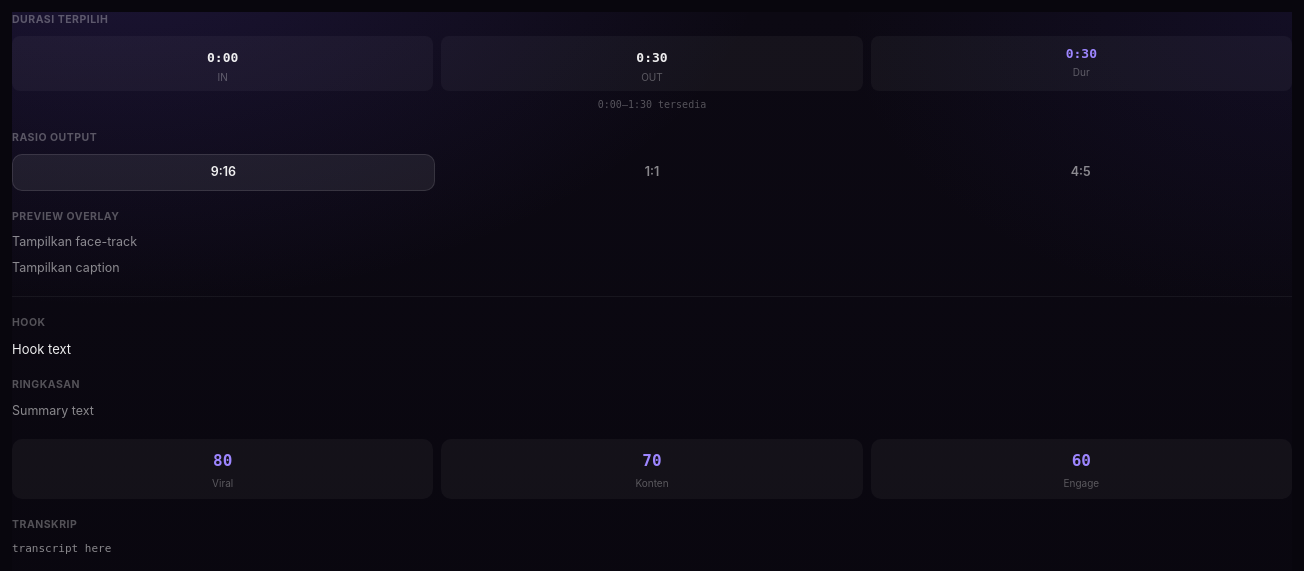
EditTab › reverts on invalid input without committing
The width and height of the screenshot is (1304, 571).
Replace the text in the field named "IN" with "abc" at coordinates (223, 58), box [20,47,425,68]
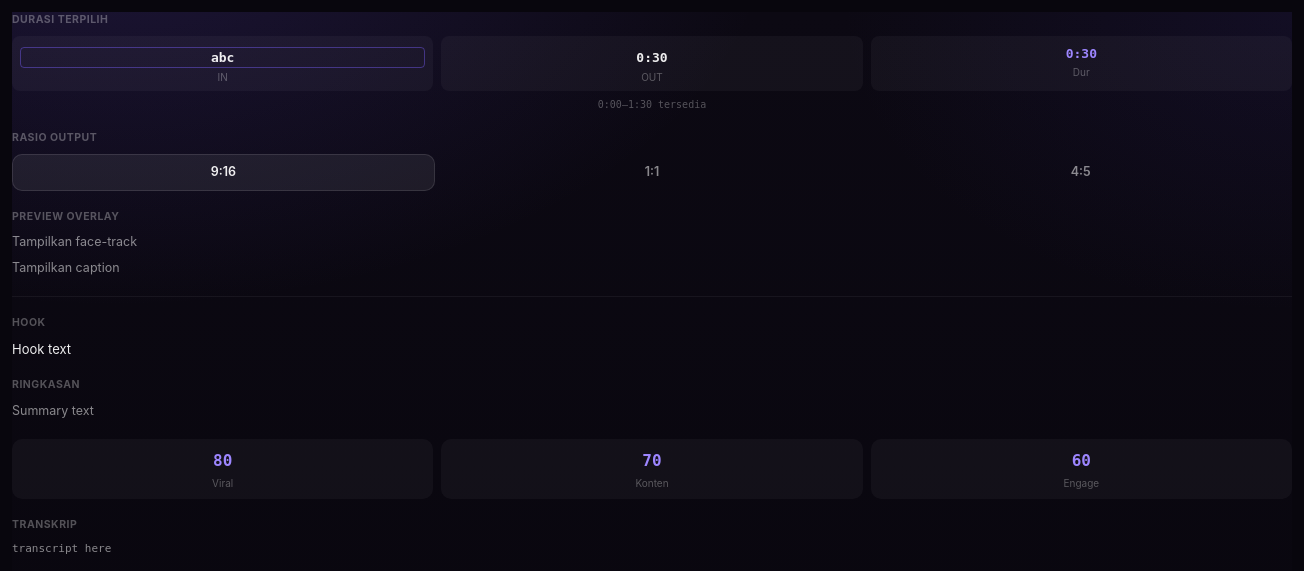
Press Tab
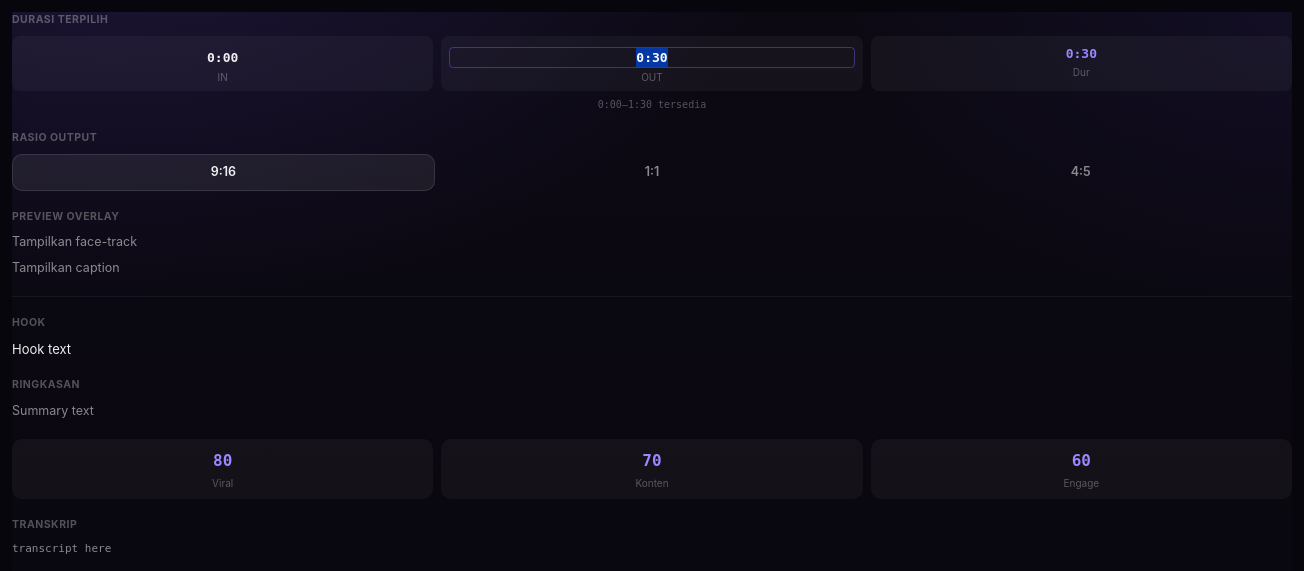
Expected: the field named "IN" holds "0:00", [20,47,425,68]
